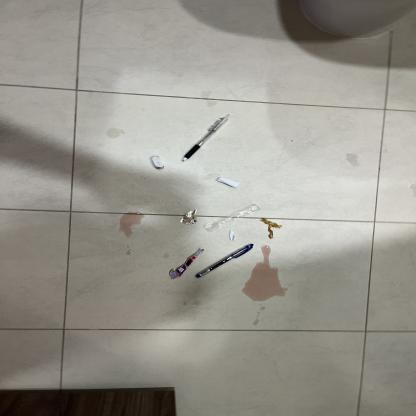dirty: (203, 204, 260, 232), (170, 249, 204, 280), (179, 209, 199, 224), (258, 217, 282, 229), (217, 178, 239, 188), (268, 225, 274, 239), (230, 229, 235, 242)
liquid: (242, 245, 289, 302), (119, 211, 144, 237), (344, 152, 360, 168), (106, 127, 123, 138), (252, 312, 261, 326), (201, 90, 213, 100), (409, 182, 416, 196), (207, 100, 218, 107), (162, 253, 171, 259), (194, 300, 202, 306), (126, 245, 131, 254), (259, 304, 266, 310)
